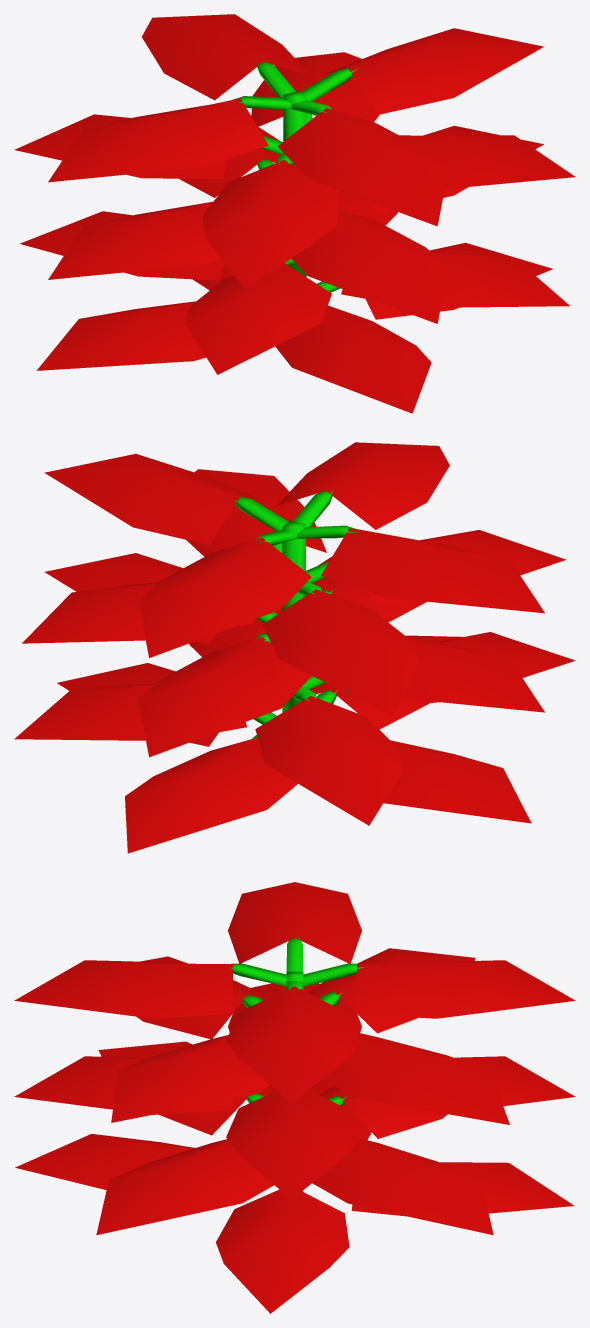
Rendered from Plant_Leafy.fbx.
3 renders of one model, top to bottom at view 1: azimuth 30°, elevation 25°; view 2: azimuth 150°, elevation 25°; view 3: azimuth 270°, elevation 25°, orthographic. The views are drawn at different scales.
Parts seen in each view (by area): view 1: Plant_05; view 2: Plant_05; view 3: Plant_05.
Boxes of the visible parts, <box> form: Plant_05: <box>14,14,575,413</box>; Plant_05: <box>14,442,575,853</box>; Plant_05: <box>14,882,575,1313</box>.
Size of the model in its own units: 62.77 by 62.69 by 32.45.
